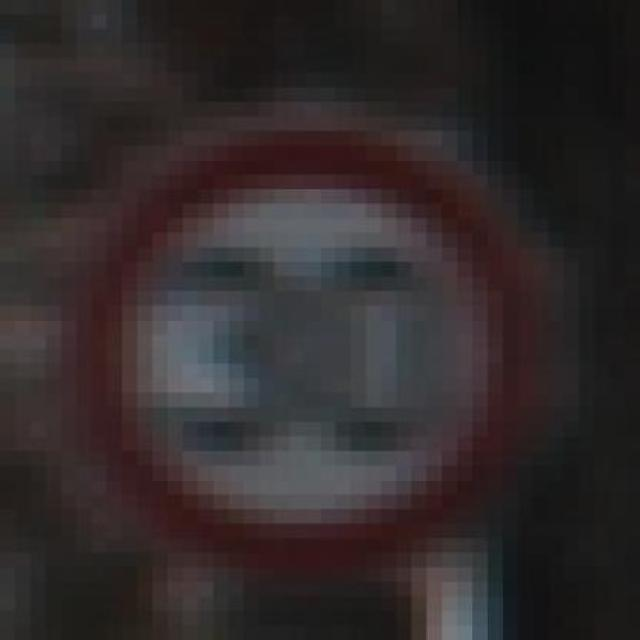forb_speed_over_30: (79, 130, 524, 568)
